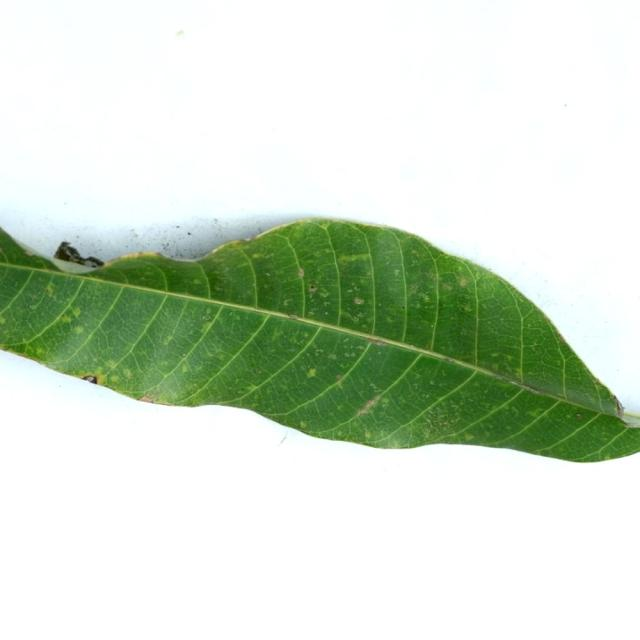Mango: (0, 220, 639, 461)
Powdery_Mildew: (337, 252, 372, 263), (611, 394, 627, 415), (306, 365, 318, 381), (80, 374, 98, 384), (227, 311, 243, 322), (369, 338, 390, 346), (528, 409, 544, 418), (138, 395, 156, 403), (44, 283, 55, 296), (352, 311, 365, 322), (271, 326, 281, 340), (441, 282, 454, 292), (419, 293, 431, 303), (290, 334, 302, 344), (201, 312, 213, 322), (370, 383, 382, 392), (60, 315, 73, 323), (248, 234, 261, 242), (164, 334, 174, 344), (203, 322, 214, 331), (442, 356, 456, 363), (73, 326, 85, 334), (352, 297, 364, 305), (319, 222, 331, 230), (604, 452, 616, 460), (23, 249, 36, 256), (122, 368, 132, 377), (107, 360, 118, 368), (462, 304, 473, 312), (516, 367, 524, 378), (247, 384, 259, 391), (181, 364, 190, 373), (459, 278, 468, 287), (510, 405, 519, 414), (465, 432, 475, 440), (108, 374, 118, 382), (37, 347, 47, 355), (308, 285, 318, 293), (314, 348, 324, 356), (385, 315, 395, 323), (175, 29, 185, 37), (288, 313, 299, 320), (282, 299, 293, 306), (251, 253, 263, 259), (344, 351, 356, 357), (0, 343, 9, 351), (425, 416, 433, 425), (380, 399, 390, 406), (319, 291, 329, 298), (364, 431, 372, 439), (300, 420, 308, 428), (505, 354, 514, 361), (214, 285, 223, 292), (439, 419, 448, 426), (252, 368, 262, 374), (298, 268, 304, 278), (0, 317, 7, 325), (336, 430, 344, 437), (492, 364, 500, 371), (335, 374, 343, 381), (160, 361, 168, 368), (491, 352, 500, 358), (328, 354, 337, 360), (193, 279, 202, 285), (575, 413, 584, 419), (394, 269, 401, 276), (324, 248, 332, 254), (411, 249, 419, 255), (352, 285, 360, 291), (357, 345, 365, 350), (429, 380, 436, 385), (347, 288, 353, 293), (324, 301, 330, 306), (309, 310, 315, 315), (378, 302, 382, 307), (265, 272, 270, 276), (229, 312, 233, 316), (430, 324, 434, 328), (401, 306, 405, 309), (182, 353, 186, 356), (564, 103, 567, 107), (325, 312, 328, 315)
